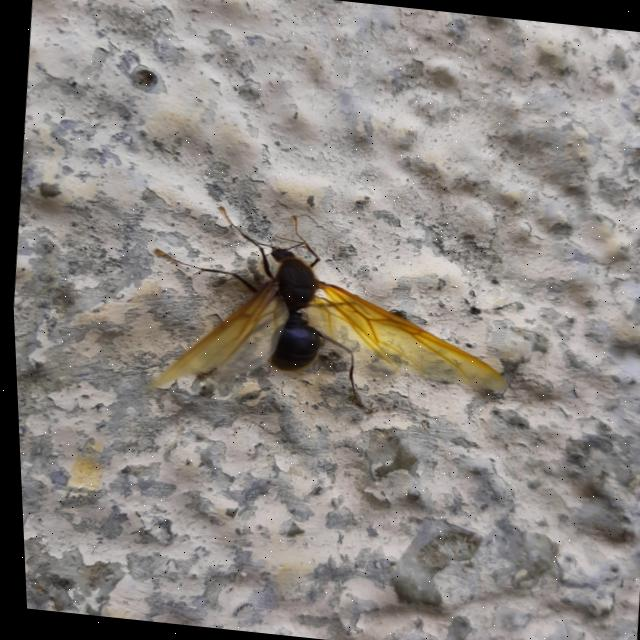Alive-Male-Alate: (133, 199, 520, 427)
